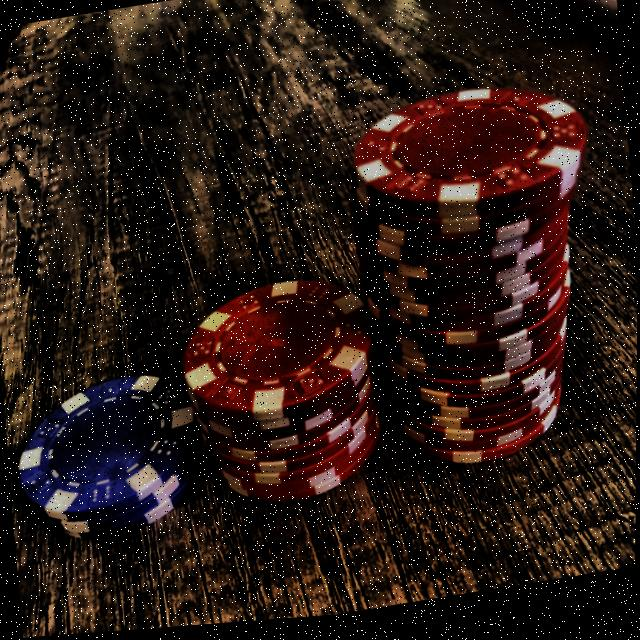Chip: (342, 75, 615, 490), (178, 269, 391, 521), (10, 364, 212, 553)
